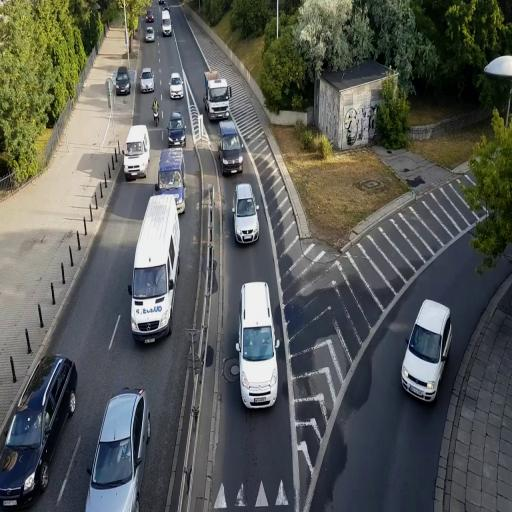vehicle: (0, 353, 78, 508), (85, 387, 151, 512), (130, 192, 180, 344), (400, 297, 452, 403), (238, 280, 278, 410), (157, 149, 186, 214), (233, 184, 260, 246), (124, 124, 150, 181), (219, 120, 244, 176), (204, 74, 231, 124), (168, 112, 186, 146), (114, 67, 131, 96), (170, 71, 184, 100), (140, 68, 154, 92), (143, 21, 155, 42)
